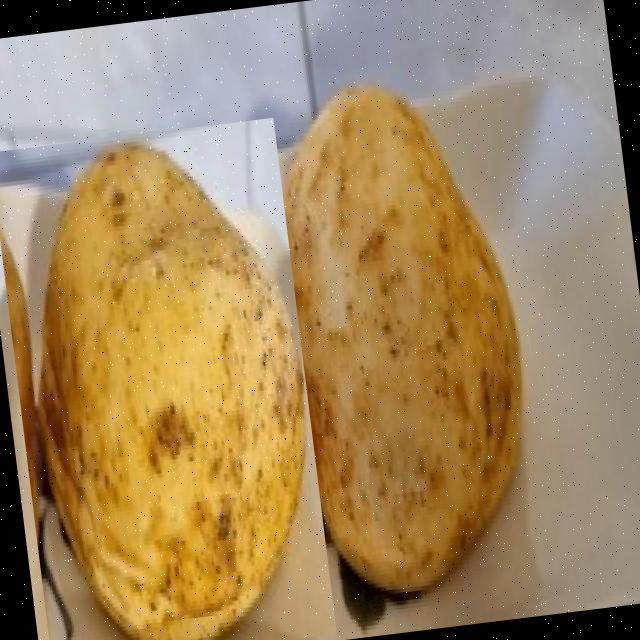Potato: (0, 116, 335, 640), (248, 59, 554, 608)
